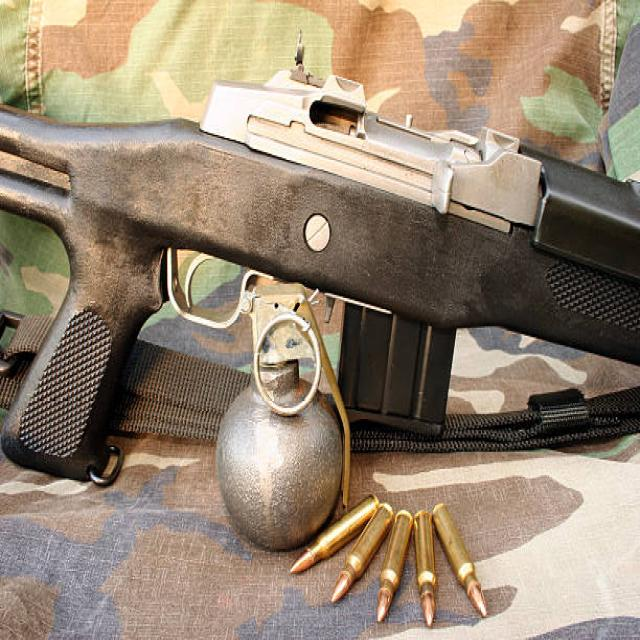grenade: (217, 284, 360, 557)
